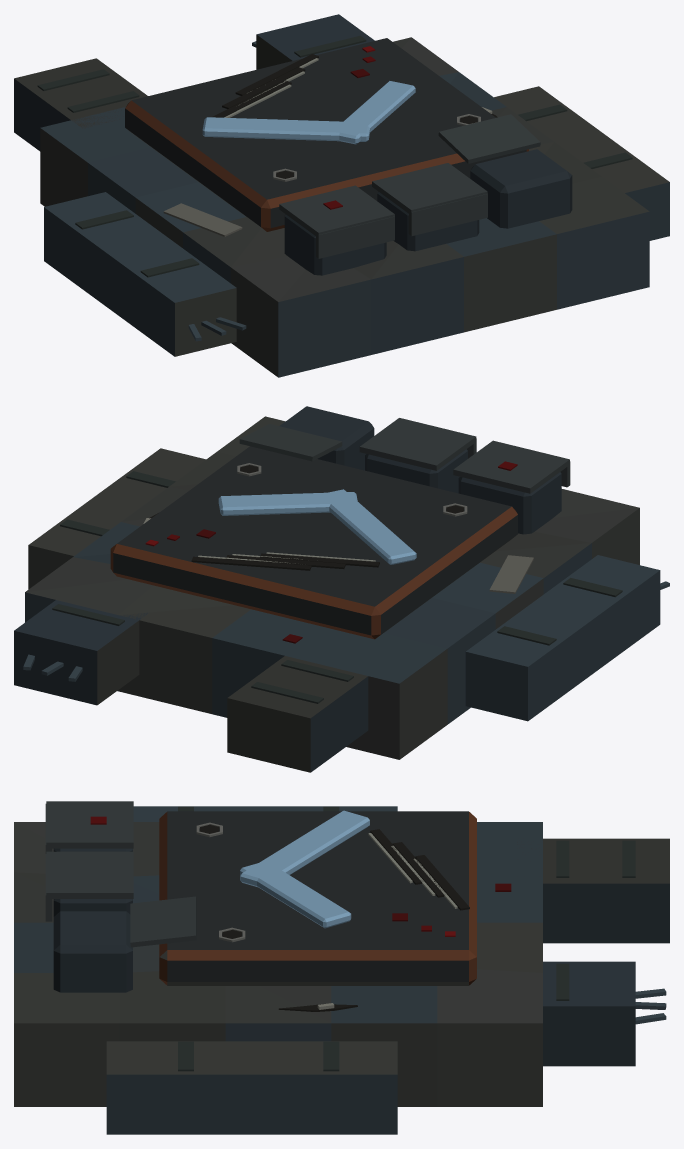
File: kevlar.glb
The picture shows the model from 3 angles, top to bottom: view 1: azimuth 30°, elevation 25°; view 2: azimuth 150°, elevation 25°; view 3: azimuth 270°, elevation 25°; orthographic projection. The views are drawn at different scales.
Parts seen in each view (by area): view 1: FrissonPickup_Armor_Full_Body, FrissonPickup_Armor_Full_Glint; view 2: FrissonPickup_Armor_Full_Body, FrissonPickup_Armor_Full_Glint; view 3: FrissonPickup_Armor_Full_Body, FrissonPickup_Armor_Full_Glint.
Part boxes in pixels (bbox=[...]): FrissonPickup_Armor_Full_Body: bbox=[14, 14, 669, 377]; FrissonPickup_Armor_Full_Glint: bbox=[202, 81, 415, 144]; FrissonPickup_Armor_Full_Body: bbox=[14, 406, 669, 772]; FrissonPickup_Armor_Full_Glint: bbox=[218, 489, 416, 564]; FrissonPickup_Armor_Full_Body: bbox=[14, 801, 669, 1134]; FrissonPickup_Armor_Full_Glint: bbox=[240, 810, 369, 928].
Size of the model in its own units: 0.48 by 0.1175 by 0.496.
